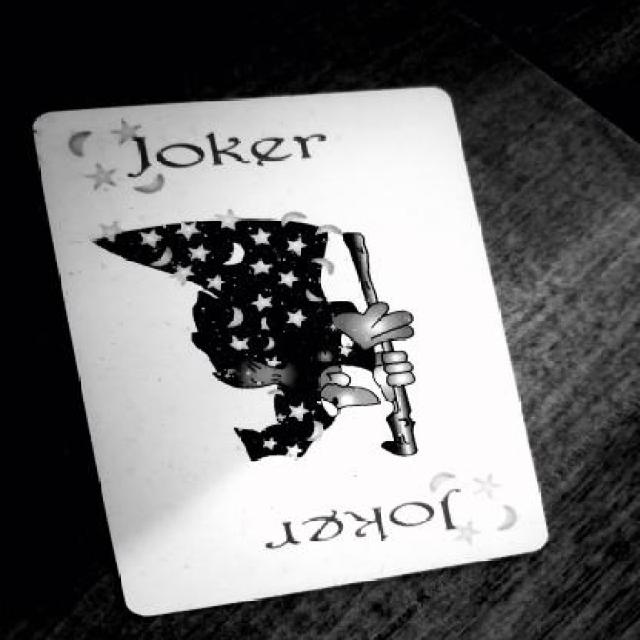BLACK JOKER: (51, 104, 358, 227), (207, 462, 530, 566)
